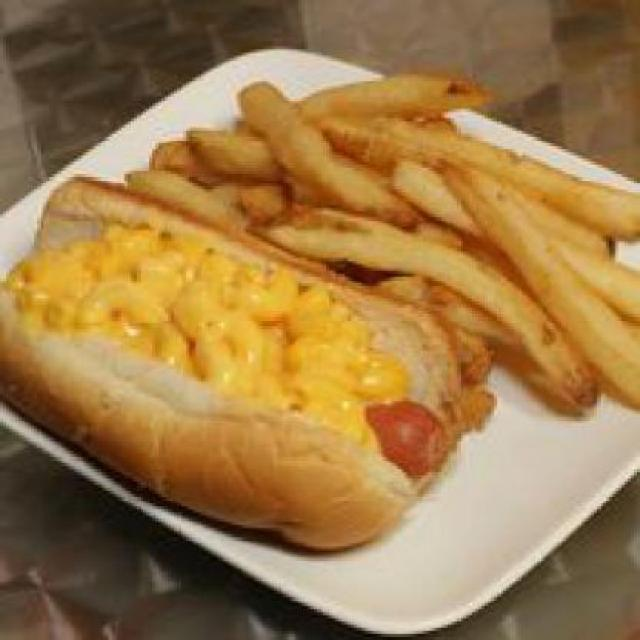french fries: (140, 59, 637, 242)
hot dog: (363, 391, 451, 475)
macaroni and cheese: (11, 211, 382, 438)
